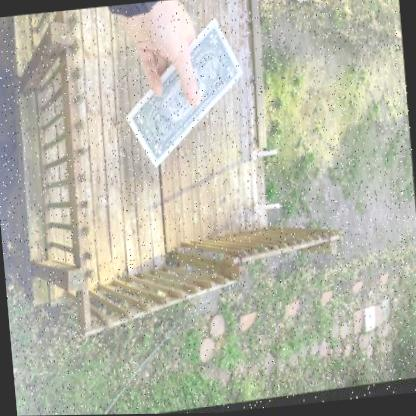dollar_back: (124, 20, 243, 170)
